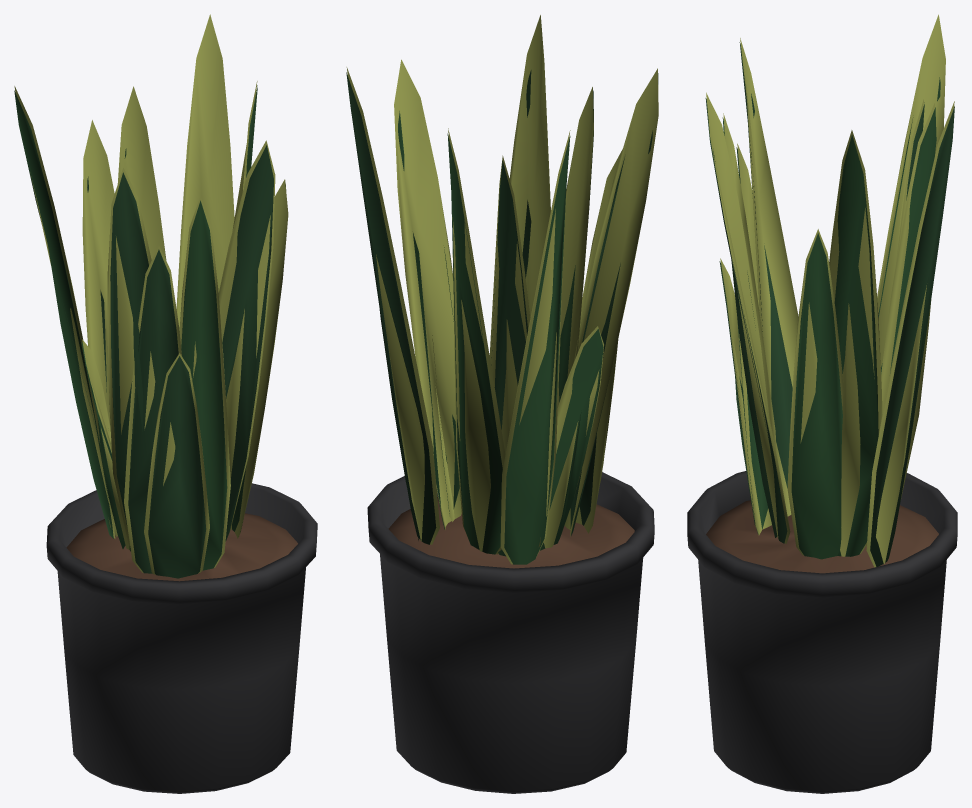
Rendered from snakePlant.glb.
The picture shows the model from 3 angles, left to right: view 1: azimuth 30°, elevation 25°; view 2: azimuth 150°, elevation 25°; view 3: azimuth 270°, elevation 25°; orthographic projection. The views are drawn at different scales.
Parts seen in each view (by area): view 1: snakePlant; view 2: snakePlant; view 3: snakePlant.
Part boxes in pixels (x1=…): snakePlant: x1=14, y1=14, x2=317, y2=793; snakePlant: x1=346, y1=15, x2=658, y2=793; snakePlant: x1=687, y1=14, x2=957, y2=793.
Size of the model in its own units: 0.341 by 0.905 by 0.32.
